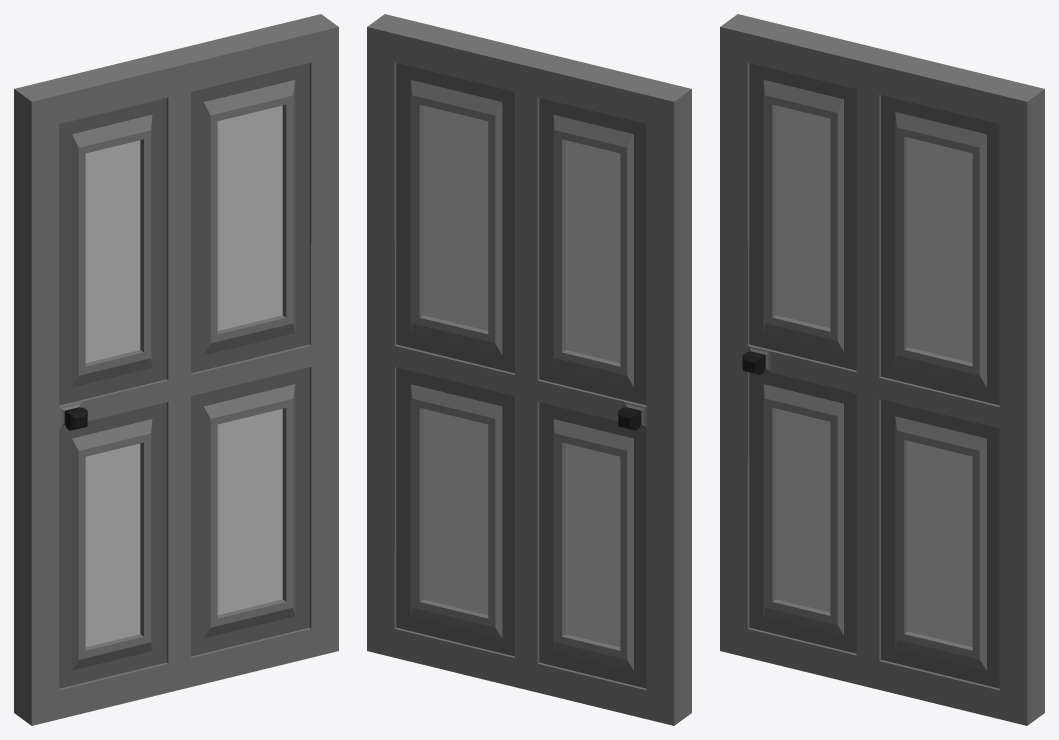
The model's file is DoorModel.fbx.
3 renders of one model, left to right at view 1: azimuth 30°, elevation 25°; view 2: azimuth 150°, elevation 25°; view 3: azimuth 330°, elevation 25°, orthographic.
Parts seen in each view (by area): view 1: DoorModel; view 2: DoorModel; view 3: DoorModel.
Part boxes in pixels (x1,y1,x2,y2): DoorModel: (14, 14, 338, 725); DoorModel: (367, 14, 691, 725); DoorModel: (720, 14, 1044, 725).
Bounding box in the file's own units: 115 × 223 × 24.03.
